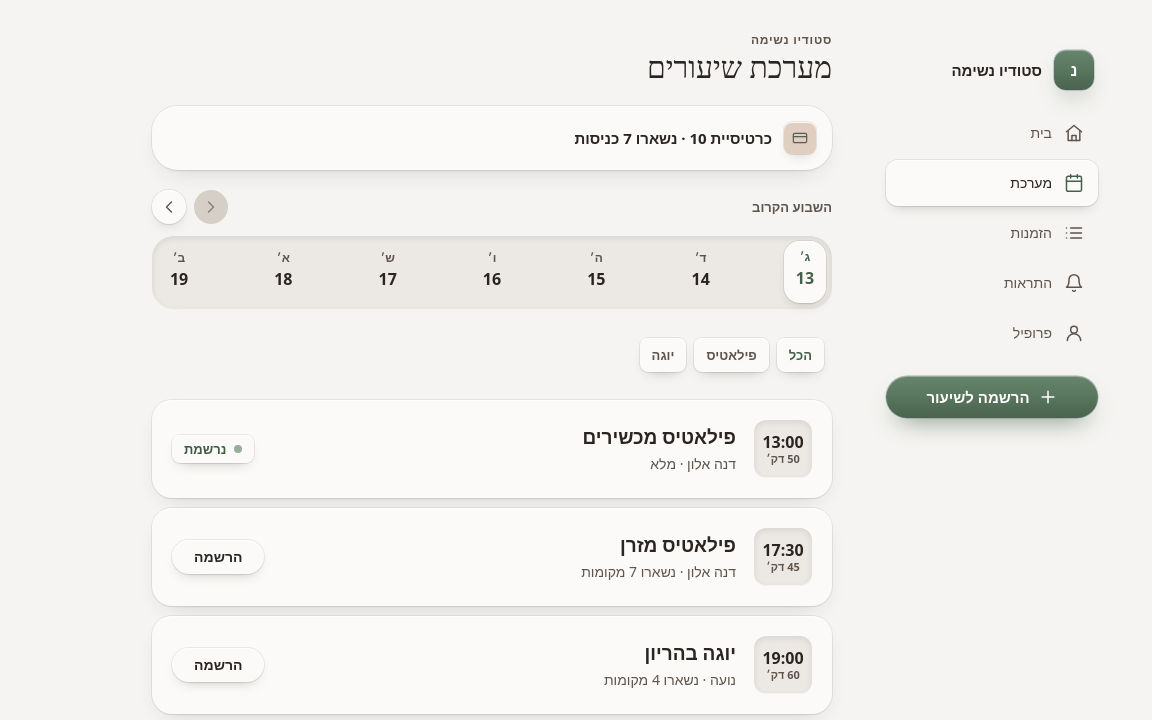
booking a class › warns in the sheet when booking now is already past the free-cancel time
Step 1. Click the button with aria-label "הרשמה לשיעור פילאטיס מזרן ב-17:30" → coordinates (218, 557), box [172, 540, 264, 574]
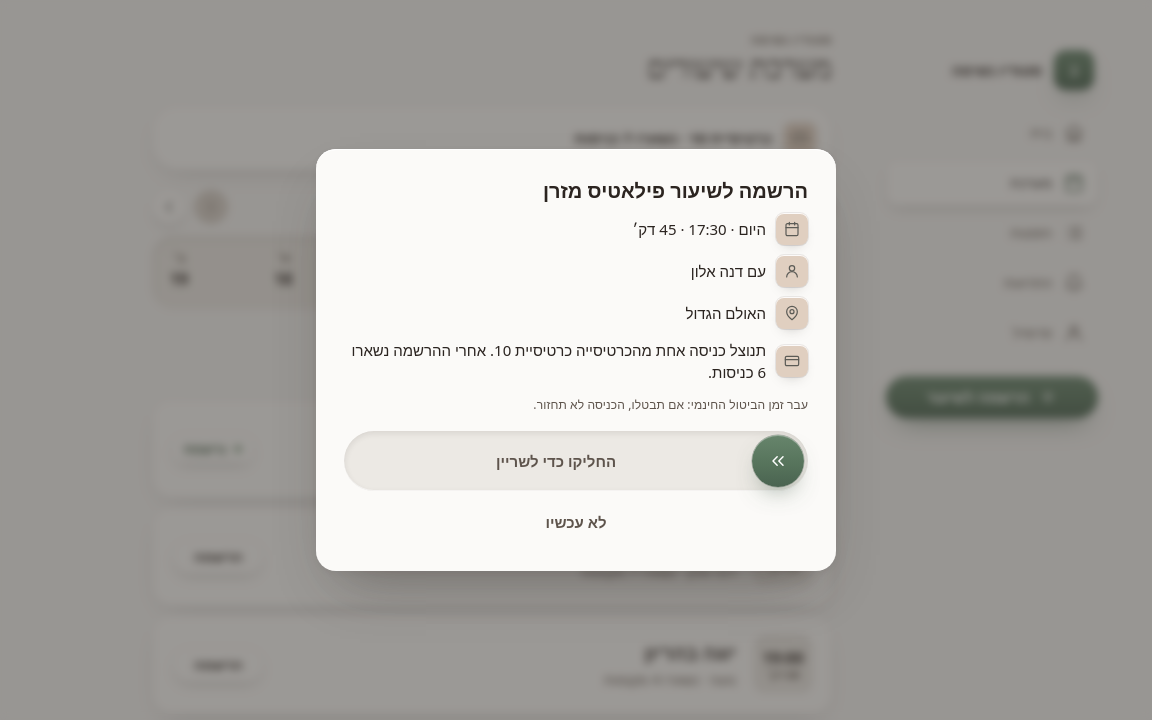
Expected: the dialog "הרשמה לשיעור פילאטיס מזרן" shows "עבר זמן הביטול החינמי: אם תבטלו, הכניסה לא תחזור.", [533, 396, 808, 413]
